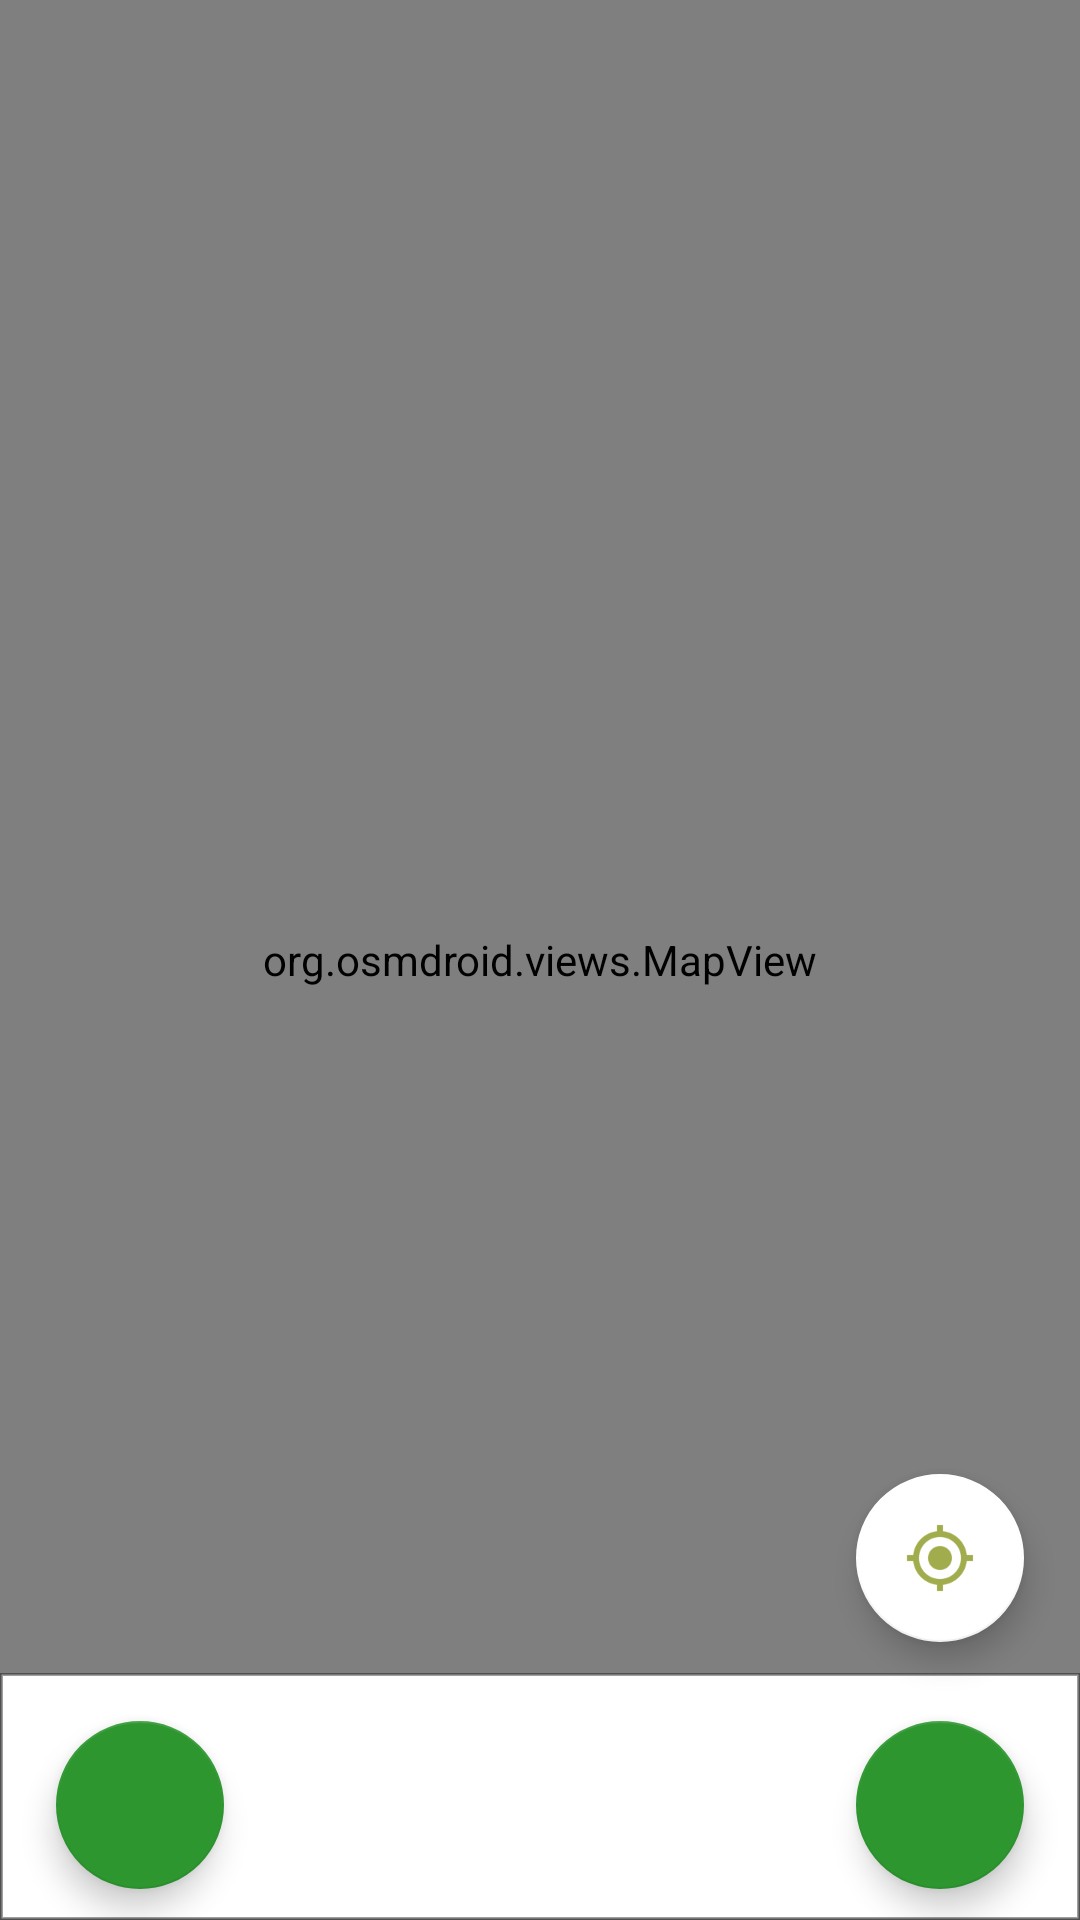

Point at icon controls on the screen. Image size 1080×1920, points as (x=x, y=y).
centered: (x=940, y=1558)
